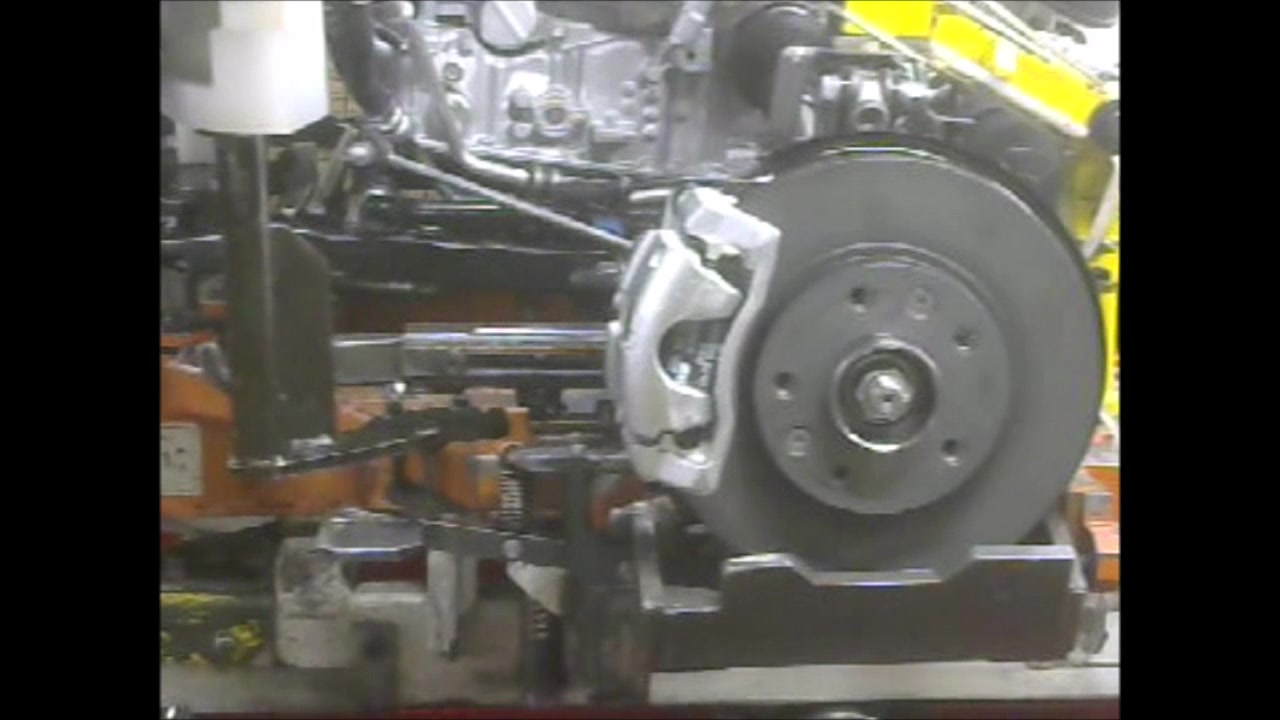DD3: (774, 131, 1109, 547)
P3: (596, 182, 785, 504)
